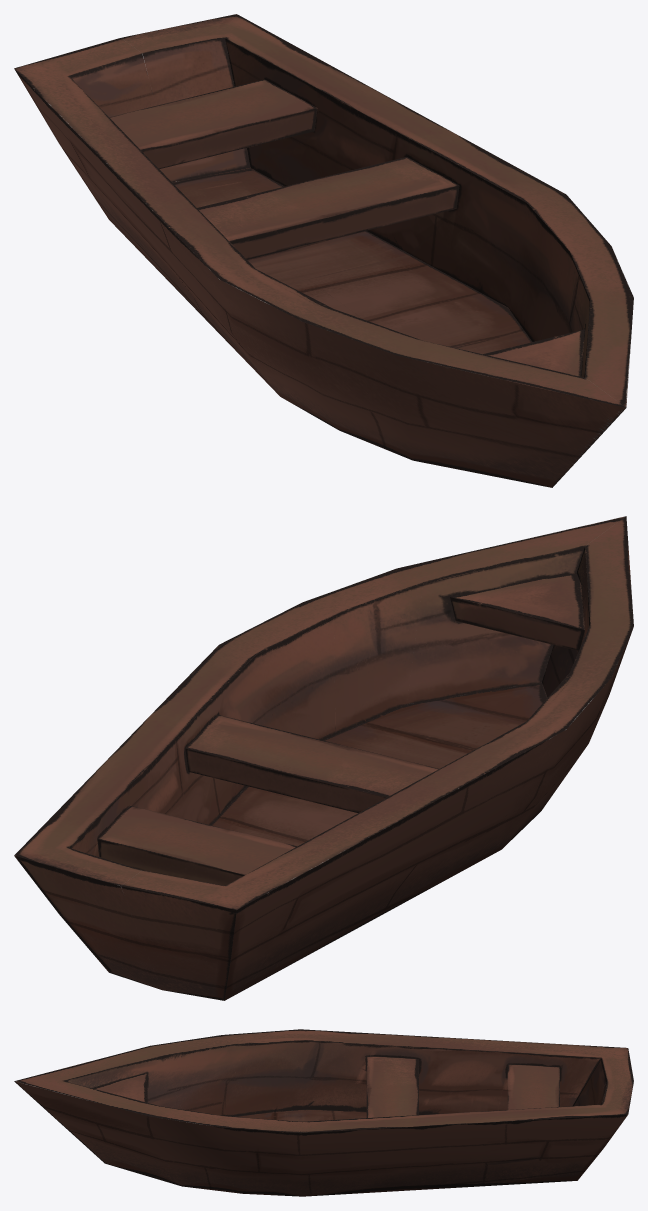
The model's file is rowboat.glb.
3 views of the same model, one above another, from view 1: azimuth 30°, elevation 25°; view 2: azimuth 150°, elevation 25°; view 3: azimuth 270°, elevation 25° (orthographic). The views are drawn at different scales.
Visible parts, largest first — view 1: rowboat; view 2: rowboat; view 3: rowboat.
Part boxes in pixels (box(x1,y1,x2,y2)): rowboat: box(14, 14, 633, 487); rowboat: box(14, 516, 633, 1000); rowboat: box(14, 1029, 633, 1196).
Size of the model in its own units: 0.7728 by 0.2853 by 1.95.
Materials: 1 (1 with a texture image).
